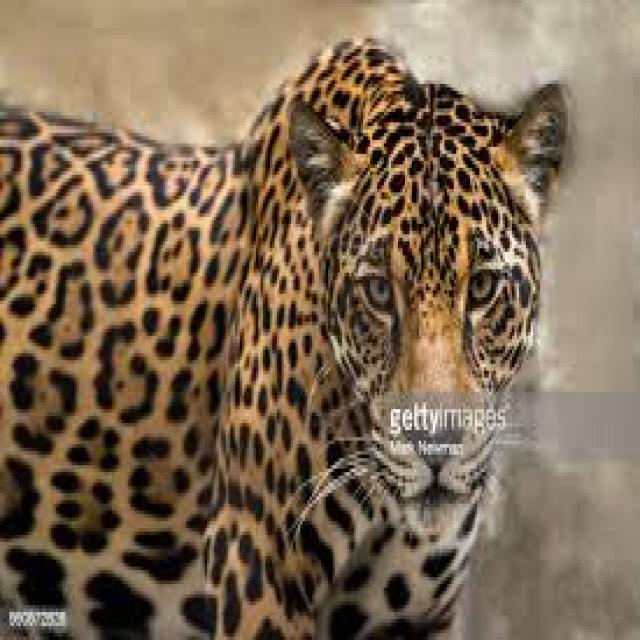Jaguar: (0, 38, 570, 640)
